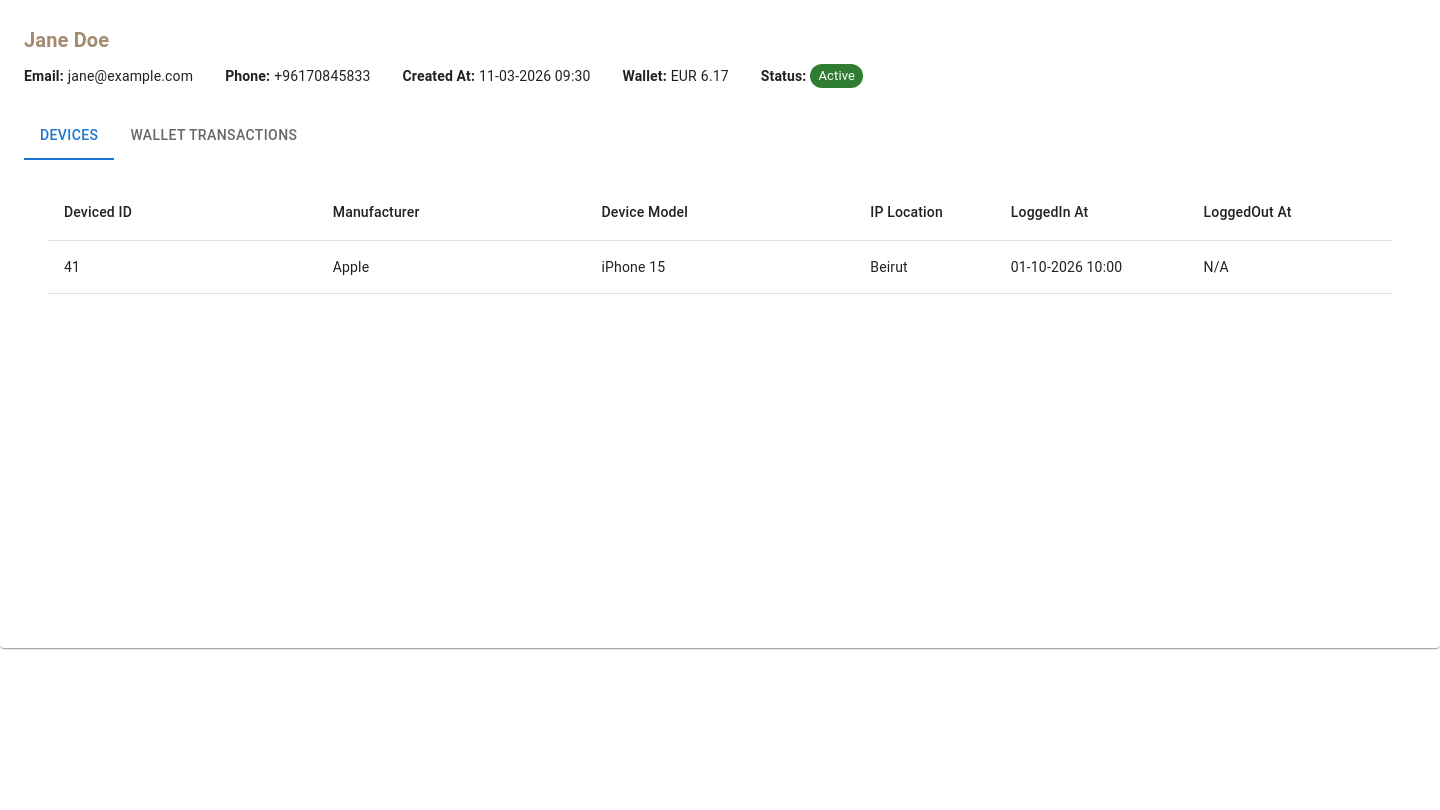
it: User detail › a 404 from the wallet tab shows 'User not found' too (TEOS-153)
The width and height of the screenshot is (1440, 810).
Expected: the text "iPhone 15" is shown, [586,240,854,294]
What coordinates should you click on to do the following:
click the tab "Wallet Transactions"
I would click on:
 (214, 136)
Its box is [114,112,313,160].
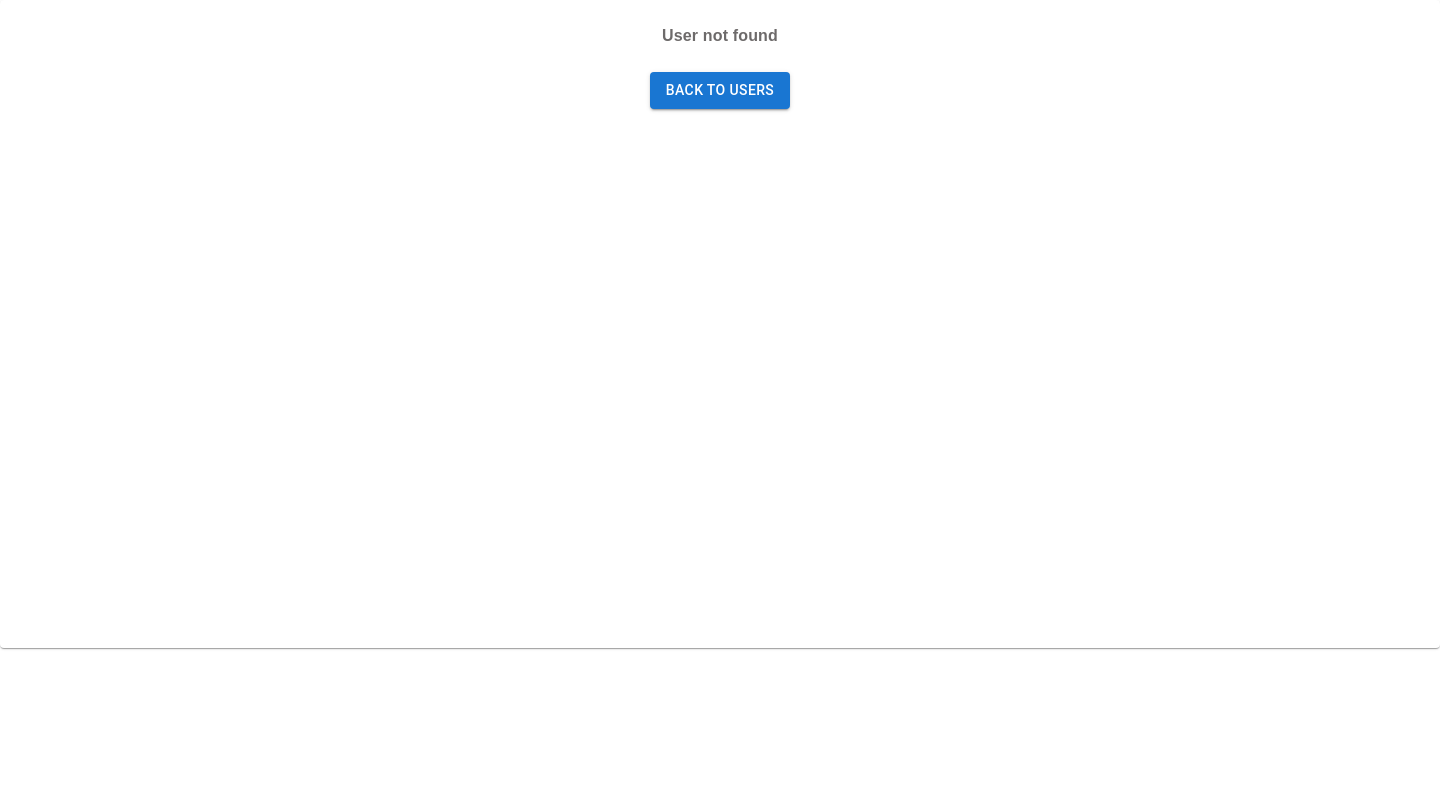
Now the text "User not found" is shown, box [662,24,778,48]
